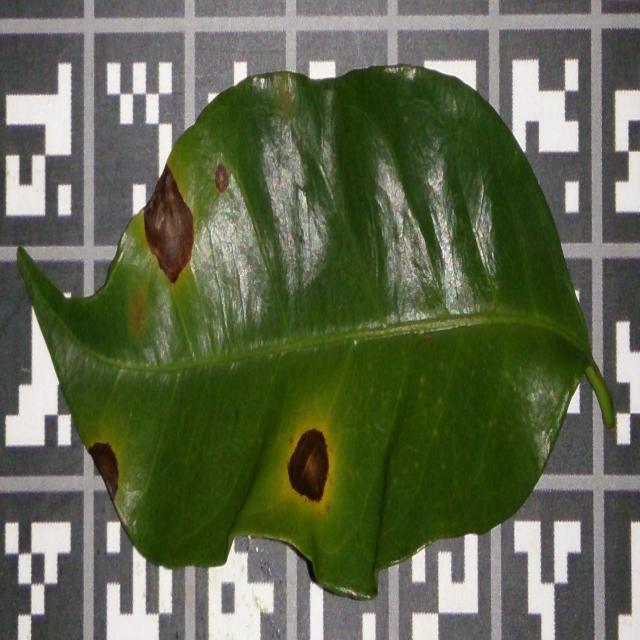Enfermedad-Mancha-de-hierro: (15, 65, 617, 601)
